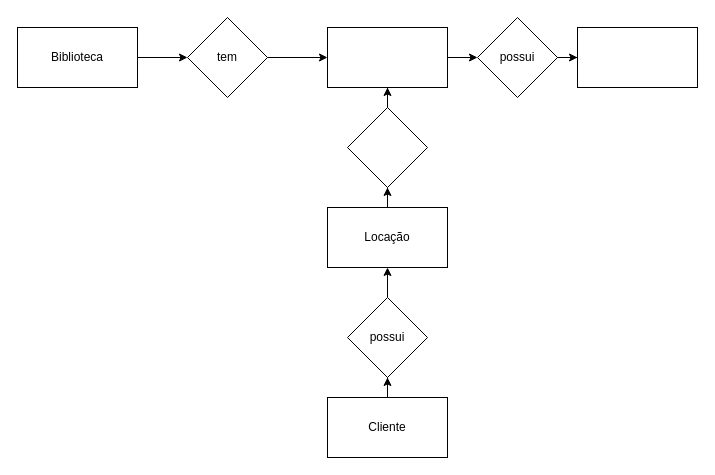
Image size: 715x475. Some labels were removed from this diagram. Each missing label, with the box of its shape:
aluga: (346, 106, 428, 188)
Autor: (576, 26, 698, 88)
Livro: (326, 26, 448, 88)
